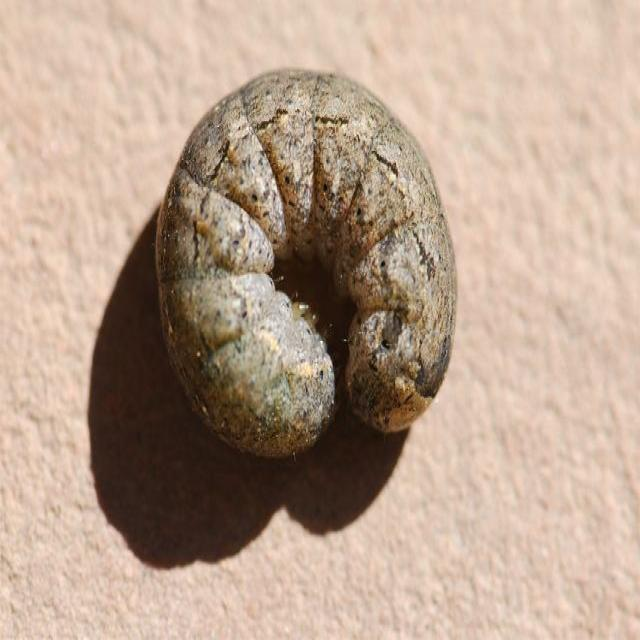Cutworm: (152, 63, 461, 460)
